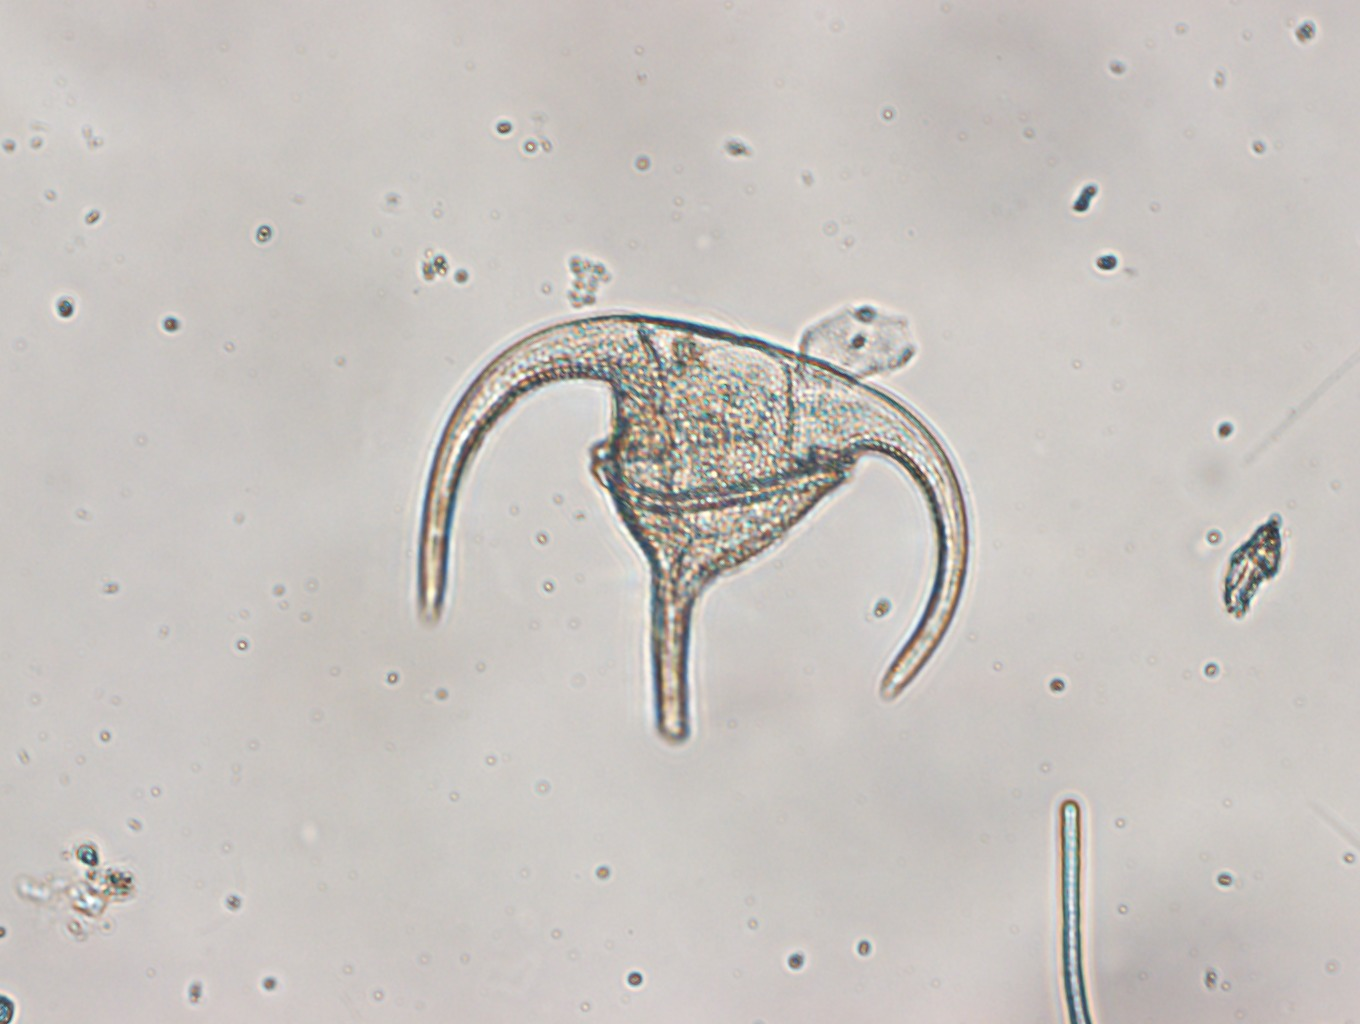ceratium tripos: (414, 308, 970, 744)
